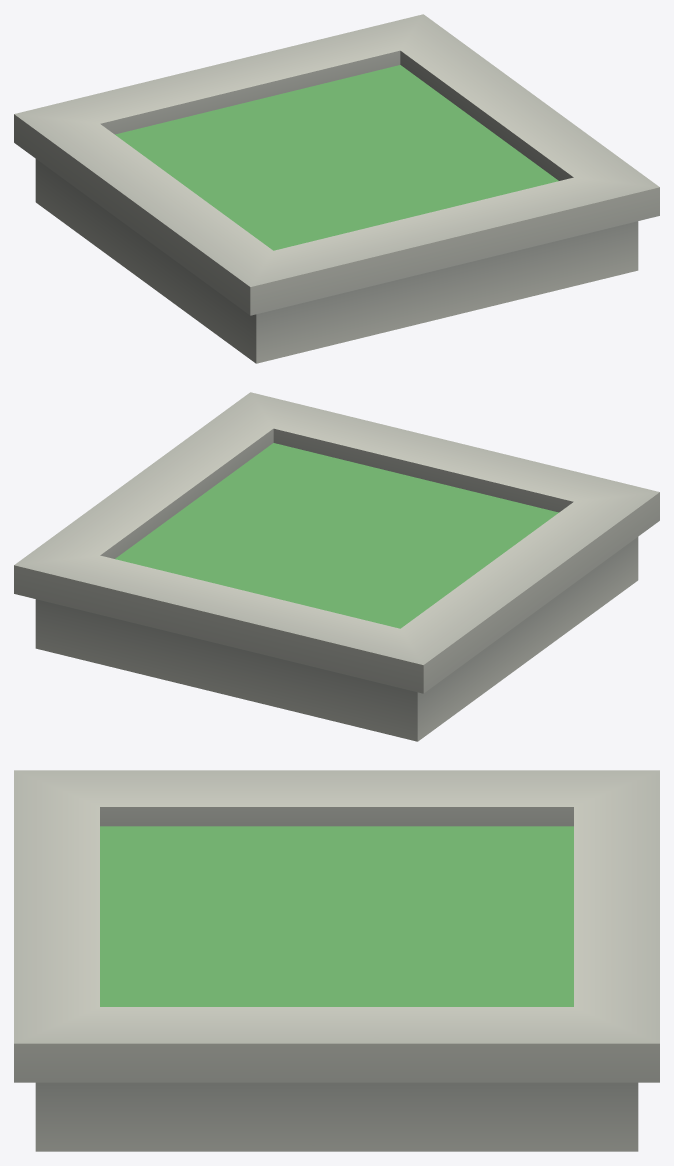
File: Planter_Full_Large_01.fbx
The picture shows the model from 3 angles, top to bottom: view 1: azimuth 30°, elevation 25°; view 2: azimuth 150°, elevation 25°; view 3: azimuth 270°, elevation 25°; orthographic projection. The views are drawn at different scales.
Visible parts, largest first — view 1: Planter_Full_Large_01; view 2: Planter_Full_Large_01; view 3: Planter_Full_Large_01.
Part boxes in pixels (left/top/right/bottom): Planter_Full_Large_01: left=14, top=14, right=659, bottom=363; Planter_Full_Large_01: left=14, top=392, right=659, bottom=741; Planter_Full_Large_01: left=14, top=770, right=659, bottom=1151.
Size of the model in its own units: 300 by 60 by 300.
